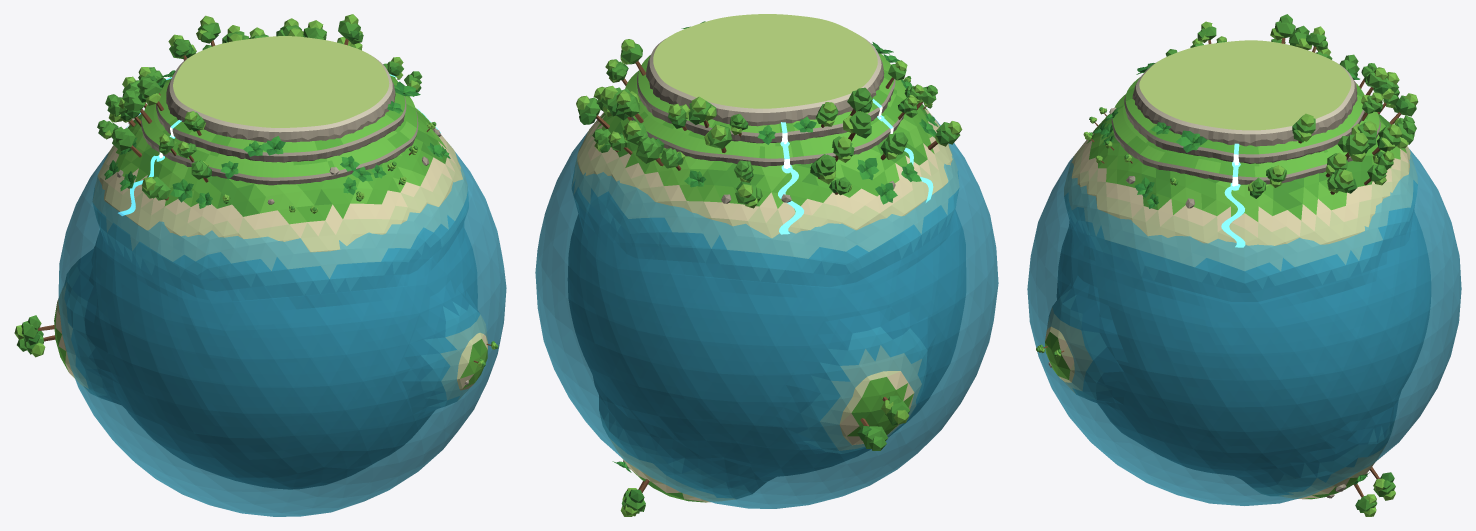
The model's file is 03_Verdantide.glb.
The picture shows the model from 3 angles, left to right: view 1: azimuth 30°, elevation 25°; view 2: azimuth 150°, elevation 25°; view 3: azimuth 270°, elevation 25°; orthographic projection. The views are drawn at different scales.
Parts seen in each view (by area): view 1: Verdantide_Body, Verdantide_Ocean, Verdantide_BuildArea, Verdantide_Terraces, Verdantide_Deco_Trees, Verdantide_Deco_BroadLeaves; view 2: Verdantide_Ocean, Verdantide_Body, Verdantide_BuildArea, Verdantide_Deco_Trees, Verdantide_Terraces, Verdantide_Deco_BroadLeaves, Verdantide_Deco_Waterfalls; view 3: Verdantide_Body, Verdantide_Ocean, Verdantide_BuildArea, Verdantide_Deco_Trees, Verdantide_Terraces, Verdantide_Deco_BroadLeaves, Verdantide_Deco_Waterfalls.
Part boxes in pixels (x1,y1,x2,y2): Verdantide_Body: (54, 108, 487, 489); Verdantide_Ocean: (58, 152, 506, 516); Verdantide_BuildArea: (166, 36, 395, 142); Verdantide_Terraces: (141, 73, 418, 185); Verdantide_Deco_Trees: (14, 14, 498, 367); Verdantide_Deco_BroadLeaves: (104, 70, 450, 208); Verdantide_Ocean: (535, 115, 998, 508); Verdantide_Body: (568, 102, 965, 502); Verdantide_BuildArea: (646, 14, 884, 126); Verdantide_Deco_Trees: (576, 39, 962, 516); Verdantide_Terraces: (625, 53, 906, 166); Verdantide_Deco_BroadLeaves: (612, 21, 938, 472); Verdantide_Deco_Waterfalls: (778, 99, 933, 234); Verdantide_Body: (1045, 114, 1430, 499); Verdantide_Ocean: (1027, 149, 1461, 505); Verdantide_BuildArea: (1132, 40, 1357, 146); Verdantide_Deco_Trees: (1036, 14, 1418, 516); Verdantide_Terraces: (1111, 77, 1380, 184); Verdantide_Deco_BroadLeaves: (1093, 63, 1369, 485); Verdantide_Deco_Waterfalls: (1221, 143, 1245, 247).
Bounding box in the file's own units: 2.03 × 2.13 × 2.
